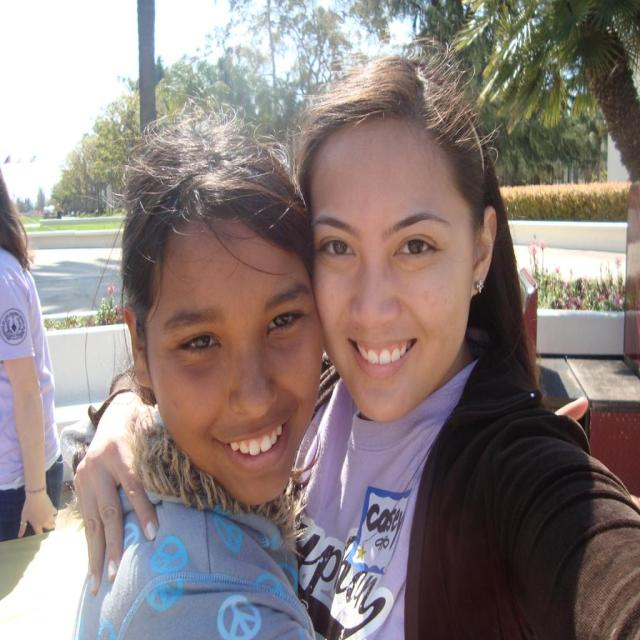Face: (149, 191, 321, 525), (307, 122, 485, 436)
